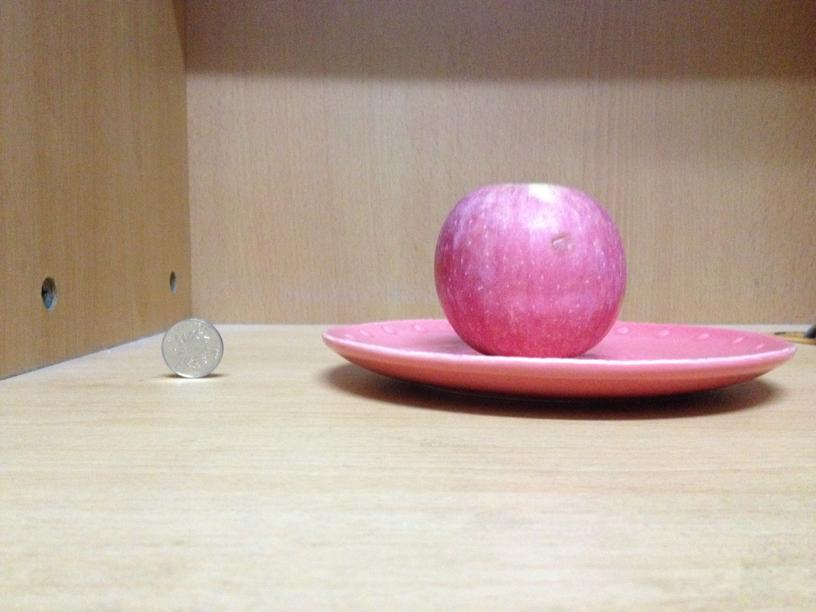apple: (433, 180, 623, 358)
coin: (158, 317, 225, 376)
